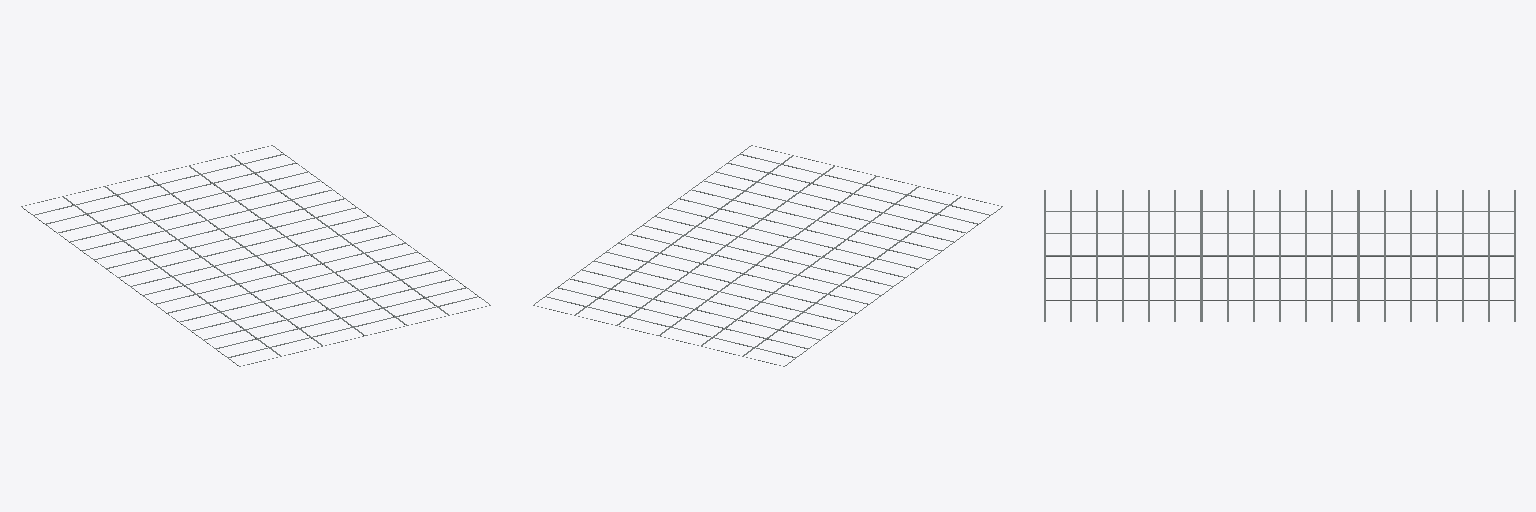
The robot description file, URDF, robot "CeilingGrid":
<?xml version="1.0" encoding="utf-8"?>
<!-- This URDF was automatically created by SolidWorks to URDF Exporter! Originally created by Stephen Brawner ([email redacted]) 
     Commit Version: 1.5.1-0-g916b5db  Build Version: 1.5.7152.31018
     For more information, please see http://wiki.ros.org/sw_urdf_exporter -->
<robot
  name="CeilingGrid">
  <link
    name="base_link">
    <inertial>
      <origin
        xyz="3.05750000000002 -5.58150000000014 2.6985"
        rpy="0 0 0" />
      <mass
        value="223.59228559204" />
      <inertia
        ixx="2250.39650489471"
        ixy="3.54508089550566E-12"
        ixz="8.69468815369962E-16"
        iyy="1007.09529436575"
        iyz="-4.73382805751151E-13"
        izz="3257.49146387203" />
    </inertial>
    <visual>
      <origin
        xyz="0 0 0"
        rpy="0 0 0" />
      <geometry>
        <mesh
          filename="package://CeilingGrid/meshes/base_link.STL" />
      </geometry>
      <material
        name="">
        <color
          rgba="0.529411764705882 0.549019607843137 0.549019607843137 1" />
      </material>
    </visual>
    <collision>
      <origin
        xyz="0 0 0"
        rpy="0 0 0" />
      <geometry>
        <mesh
          filename="package://CeilingGrid/meshes/base_link.STL" />
      </geometry>
    </collision>
  </link>
</robot>

--- What the picture shows (computed from the rendered views, not written in the file) ---
3 views of the same robot in one strip: view 1: azimuth 30°, elevation 25°; view 2: azimuth 150°, elevation 25°; view 3: azimuth 270°, elevation 25° (orthographic).
Model CeilingGrid with 1 links and 0 joints (none), rooted at base_link, posed all joints at 0.
Links seen in each view (by area): view 1: base_link; view 2: base_link; view 3: base_link.
Boxes of the visible links, box(x1,y1,x2,y2) form: base_link: box(21, 145, 490, 366); base_link: box(533, 145, 1002, 366); base_link: box(1044, 190, 1515, 321).
Size in the robot's own frame: 7.29 by 10.96 by 0.003 metres.
Meshes: 1 distinct files referenced, 1 mesh visuals loaded (1 binary STL).
